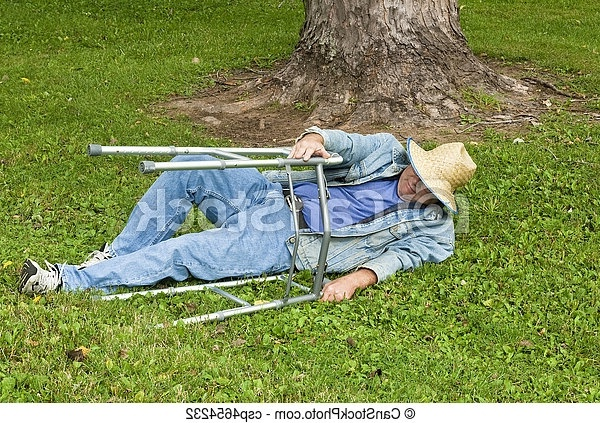fall: (8, 130, 489, 321)
